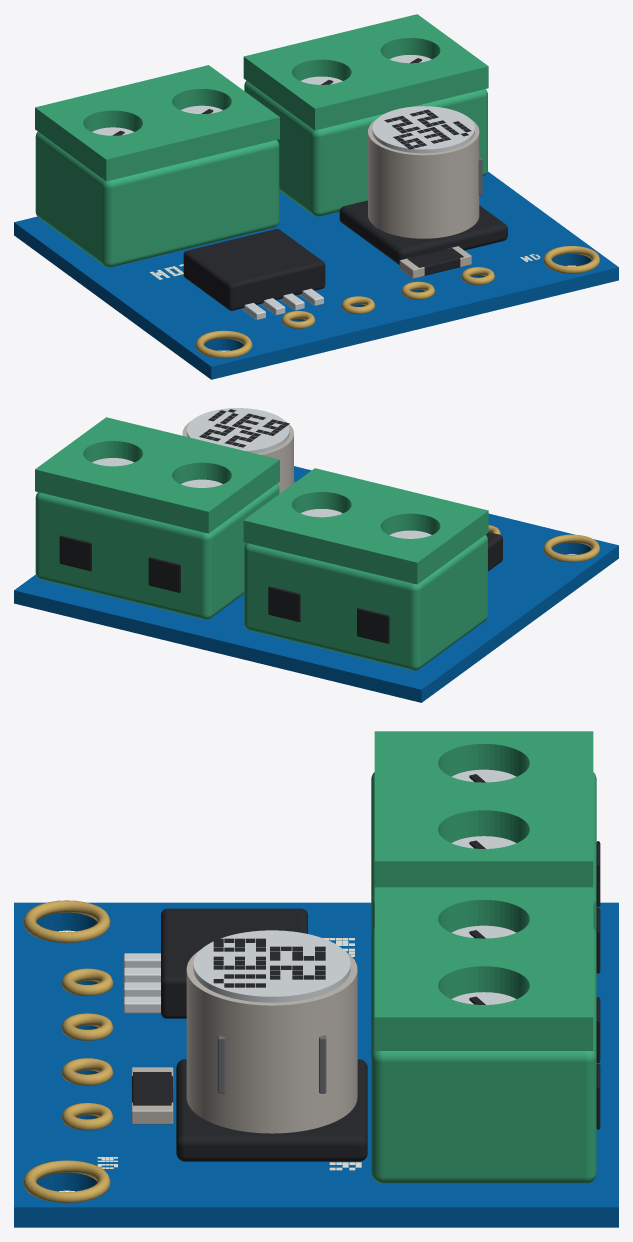
Rendered from components-34.glb.
3 renders of one model, top to bottom at view 1: azimuth 30°, elevation 25°; view 2: azimuth 150°, elevation 25°; view 3: azimuth 270°, elevation 25°, orthographic. The views are drawn at different scales.
Parts seen in each view (by area): view 1: board, motor, supply, capacitor, chip, pads, limit; view 2: motor, supply, board, capacitor, chip; view 3: board, supply, capacitor, motor, chip, pads, limit.
Boxes of the visible parts, x1=… form: board: x1=14, y1=171, x2=618, y2=379; motor: x1=35, y1=65, x2=279, y2=267; supply: x1=243, y1=14, x2=488, y2=216; capacitor: x1=339, y1=106, x2=507, y2=264; chip: x1=183, y1=229, x2=325, y2=319; pads: x1=281, y1=267, x2=494, y2=328; limit: x1=399, y1=246, x2=471, y2=278; motor: x1=243, y1=468, x2=488, y2=670; supply: x1=35, y1=417, x2=279, y2=619; board: x1=14, y1=466, x2=618, y2=702; capacitor: x1=182, y1=408, x2=293, y2=493; chip: x1=486, y1=532, x2=502, y2=571; board: x1=14, y1=900, x2=618, y2=1227; supply: x1=371, y1=887, x2=600, y2=1183; capacitor: x1=176, y1=930, x2=367, y2=1161; motor: x1=371, y1=731, x2=600, y2=973; chip: x1=123, y1=908, x2=307, y2=1018; pads: x1=61, y1=968, x2=113, y2=1130; limit: x1=131, y1=1067, x2=173, y2=1124.
Size of the model in its own units: 2.11 by 0.648 by 1.77.
